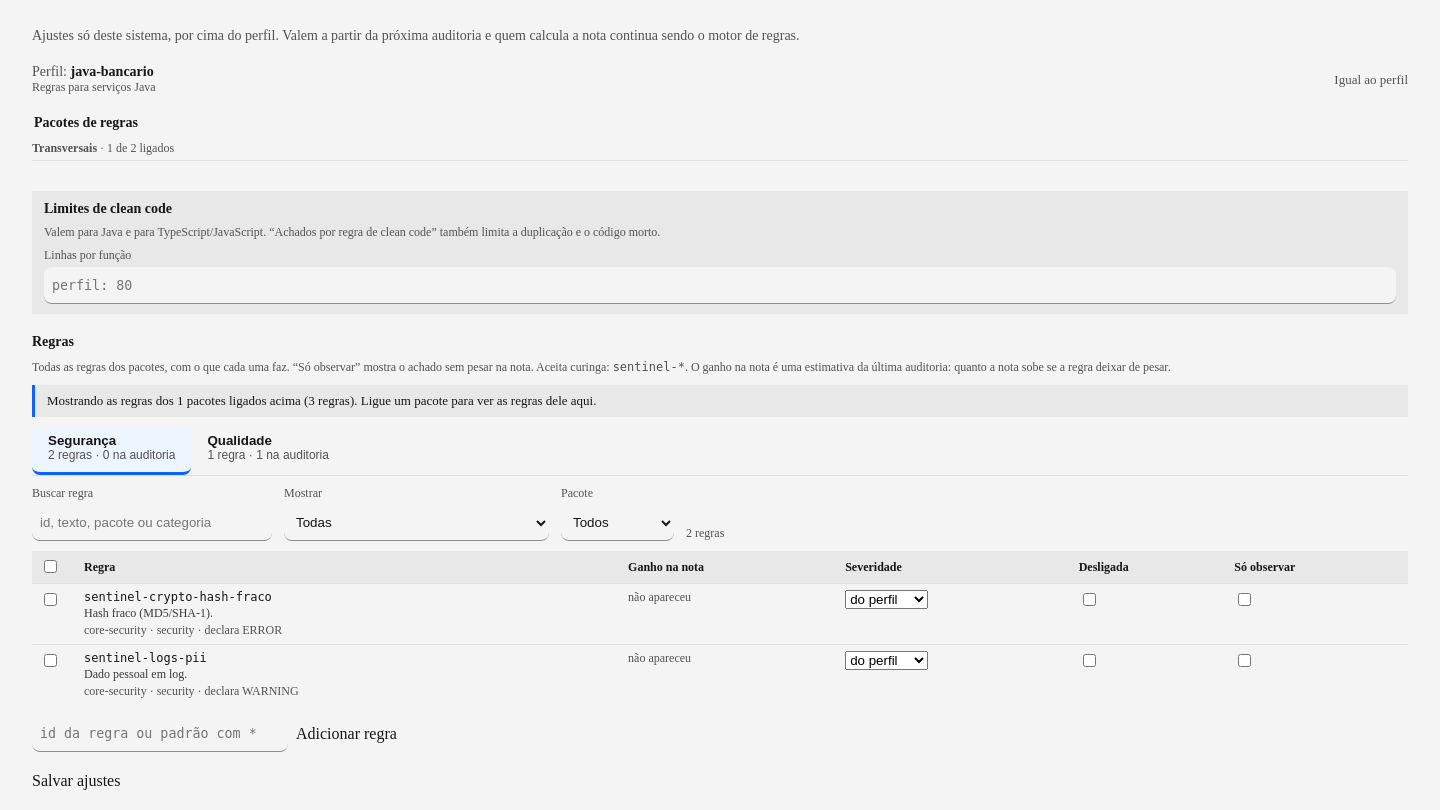
EnginePanel › mostra o que cada regra faz, inclusive as que não apareceram na última auditoria
This screenshot has width=1440, height=810.
Expected: the text "Hash fraco (MD5/SHA-1)." is shown, [84, 606, 213, 620]
Expected: the text "não apareceu" is shown 2 times, [620, 584, 837, 644]; [620, 644, 837, 705]
Step 1. Click the tab "Qualidade 1 regra · 1 na auditoria" → (268, 451), box [192, 427, 345, 475]
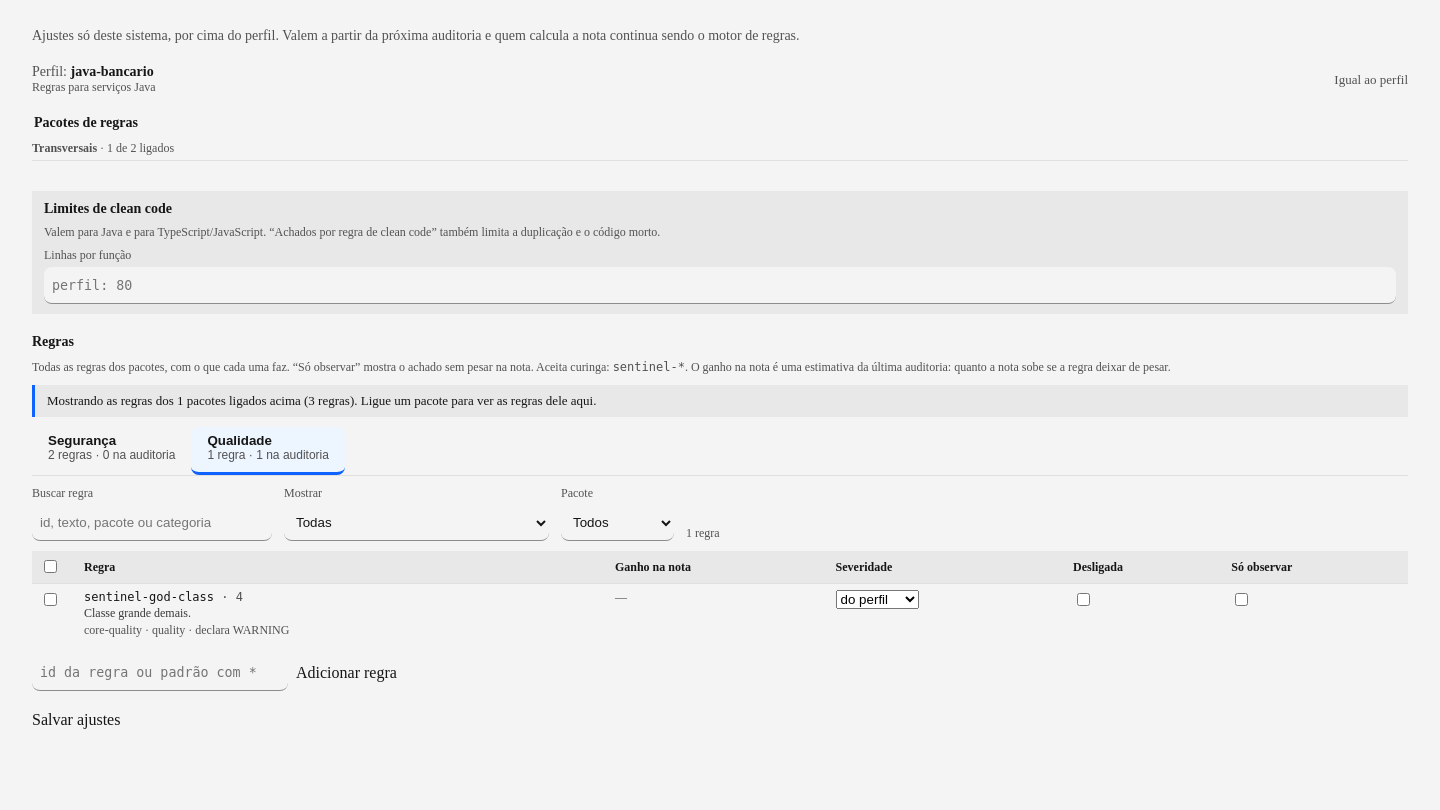
Expected: the text "Classe grande demais." is shown, [84, 606, 191, 620]
